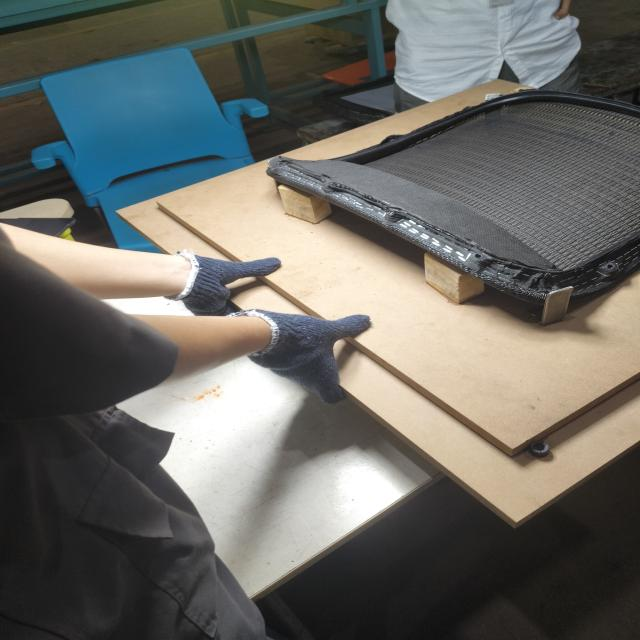Gloves-Detection: (245, 304, 378, 388), (159, 240, 291, 310)
